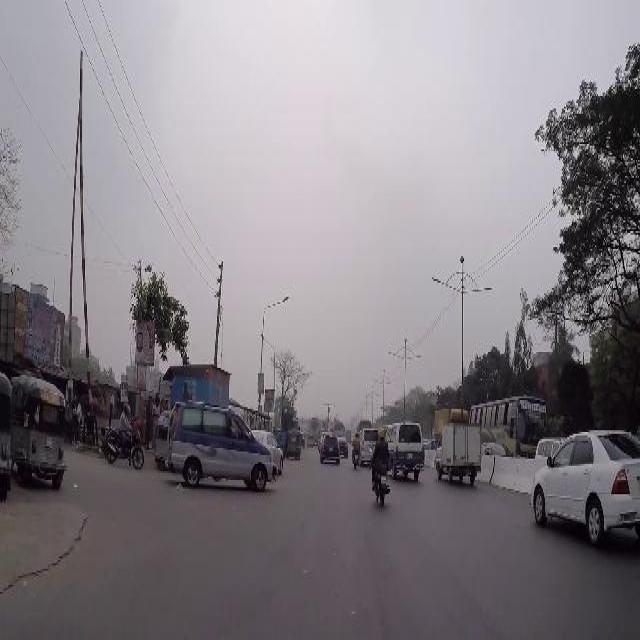bike: (102, 403, 144, 474), (370, 428, 393, 506), (352, 433, 361, 469)
vehicle: (529, 427, 640, 539), (168, 395, 278, 493), (12, 371, 69, 492), (469, 395, 548, 457), (435, 422, 483, 484), (386, 420, 427, 478), (254, 428, 285, 474), (361, 426, 380, 465), (534, 436, 564, 459), (320, 437, 341, 465), (288, 426, 301, 461), (307, 432, 314, 448)
